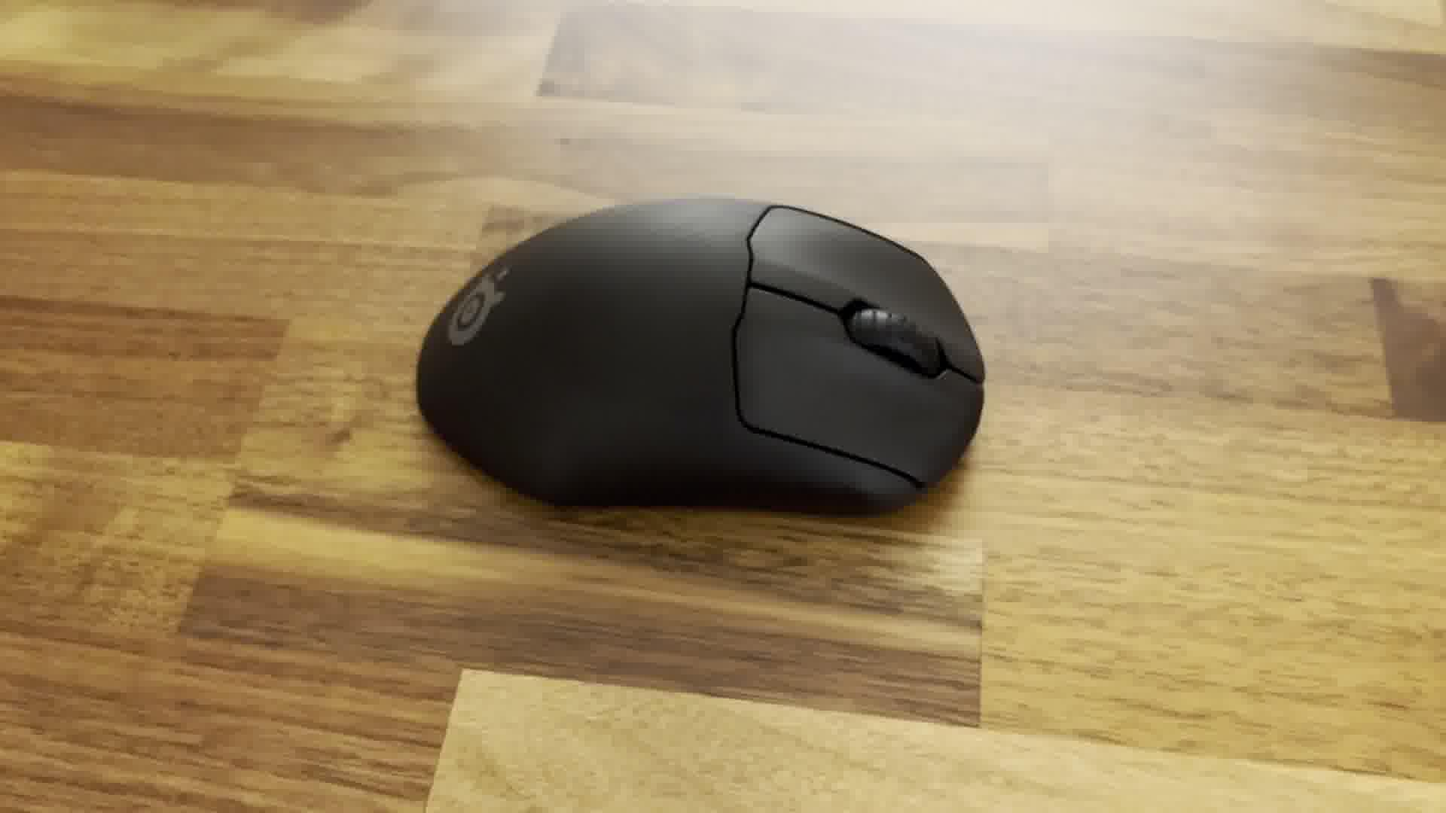mouse: (413, 188, 990, 530)
